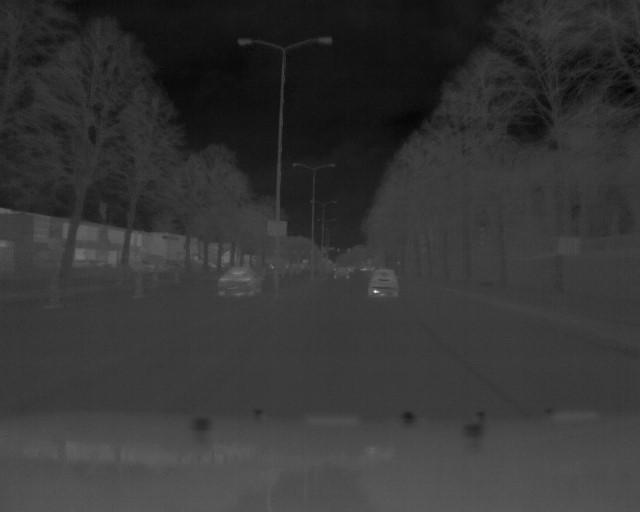car: (217, 267, 266, 296), (367, 268, 399, 297)
